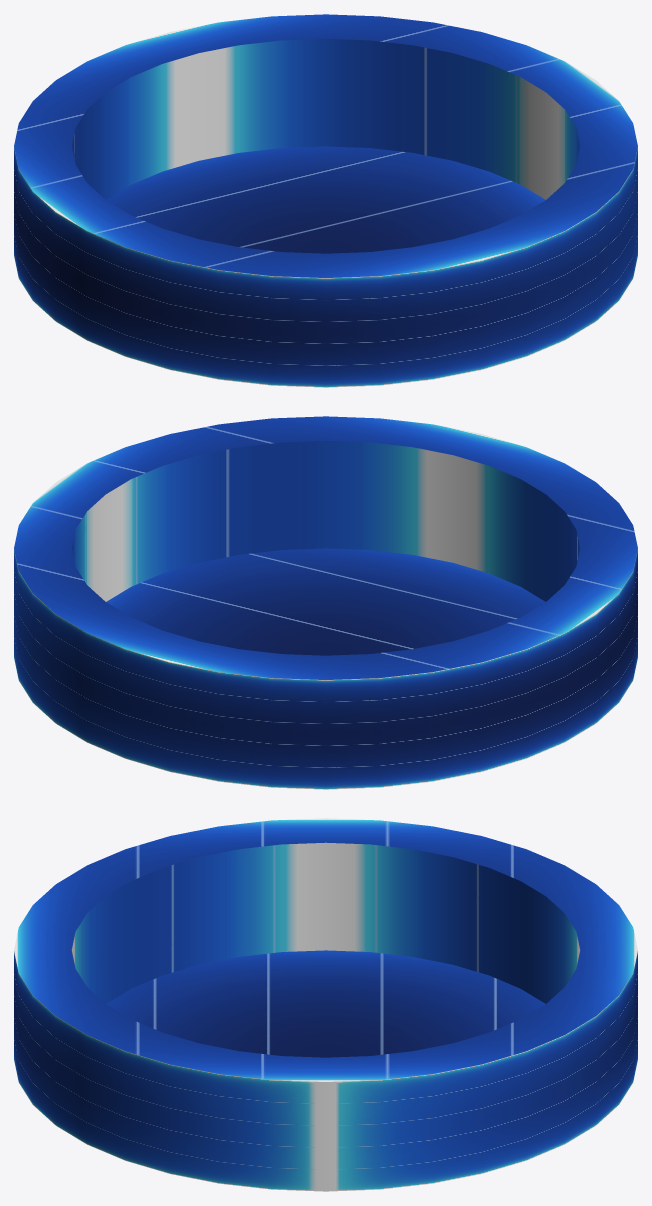
The model's file is shuijin.gltf.
3 renders of one model, top to bottom at view 1: azimuth 30°, elevation 25°; view 2: azimuth 150°, elevation 25°; view 3: azimuth 270°, elevation 25°, orthographic.
Parts seen in each view (by area): view 1: 圆柱.1; view 2: 圆柱.1; view 3: 圆柱.1.
Boxes of the visible parts, box(x1,y1,x2,y2) form: 圆柱.1: box(14, 14, 637, 387); 圆柱.1: box(14, 416, 637, 789); 圆柱.1: box(14, 818, 637, 1191).
Bounding box in the file's own units: 50.29 × 9.74 × 50.29.
Materials: 1 (1 with a texture image).
